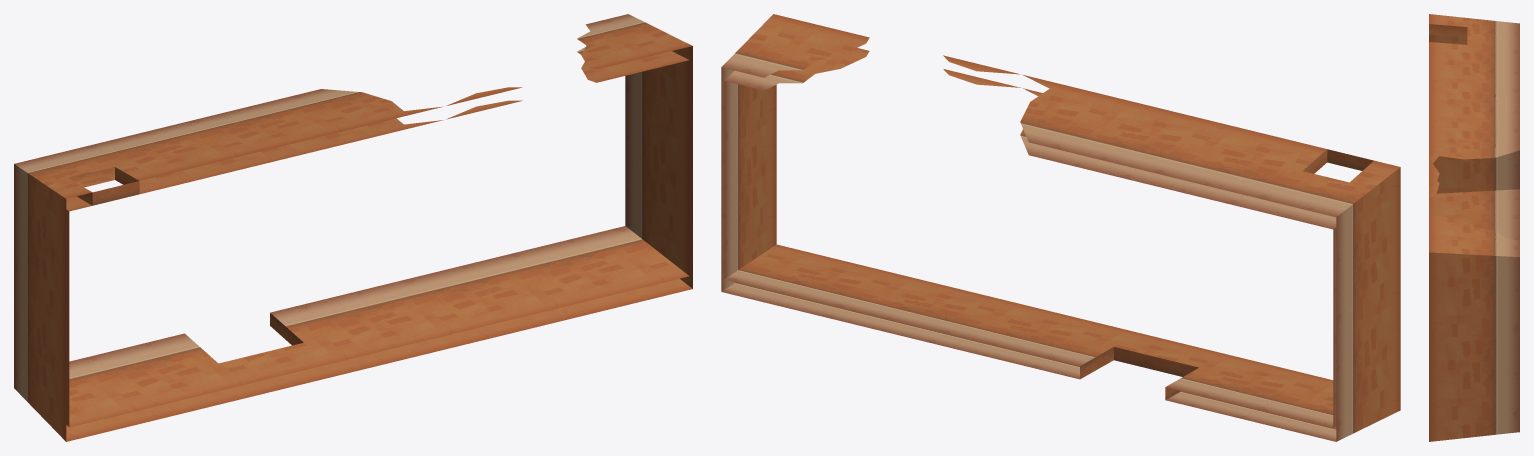
The model's file is house_01_0_cf6c20c2__ZombiesII_depot_diffuse_02_5bbd2c35_c1f257.obj.
3 renders of one model, left to right at view 1: azimuth 30°, elevation 25°; view 2: azimuth 150°, elevation 25°; view 3: azimuth 270°, elevation 25°, orthographic. The views are drawn at different scales.
Size of the model in its own units: 43.78 by 16.23 by 7.05.
1 material, 1 textured.
